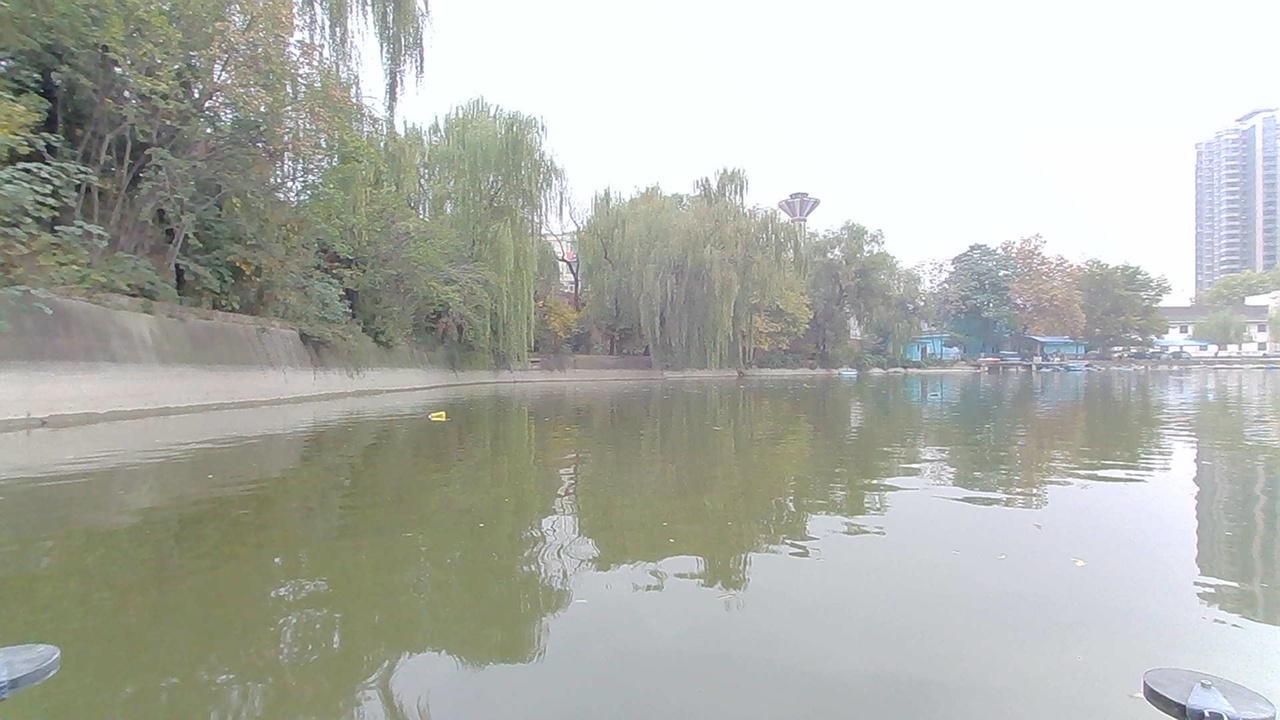bottle: (424, 405, 458, 428), (919, 387, 948, 402)
